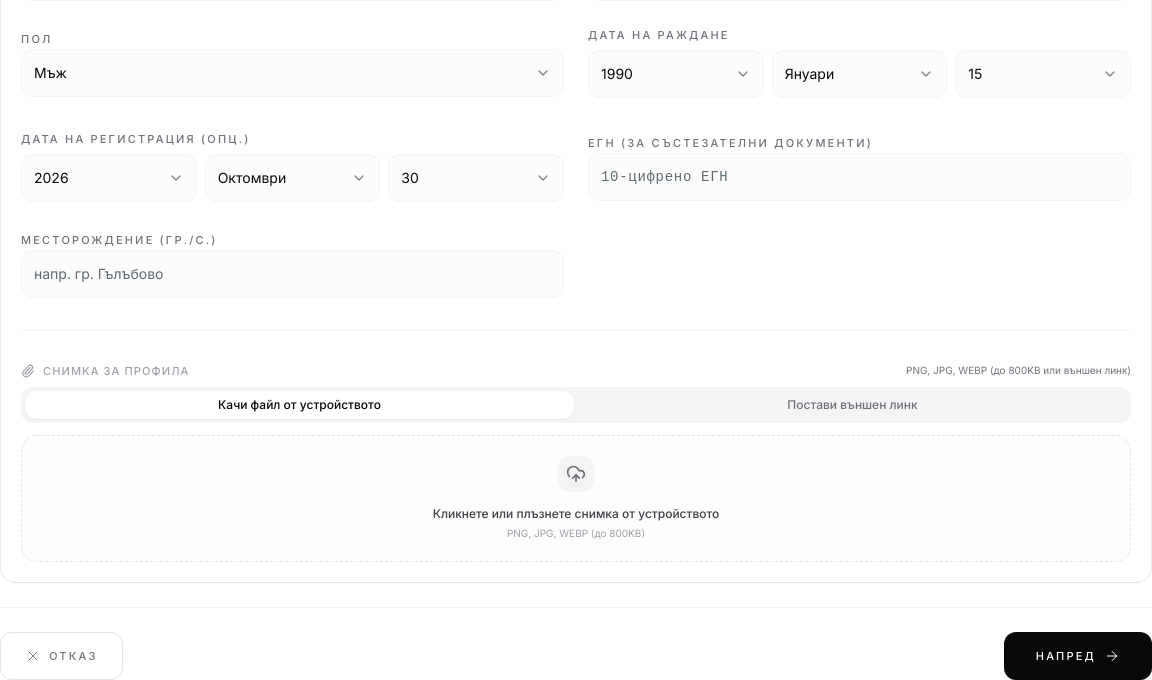
Scenario: MemberForm › should render correctly in edit mode with initialData
(page scrolled)
// Go to Step 2 (Contacts)
Click the button "Напред". click: (1078, 656)
box: [1004,632,1151,679]
(page scrolled)
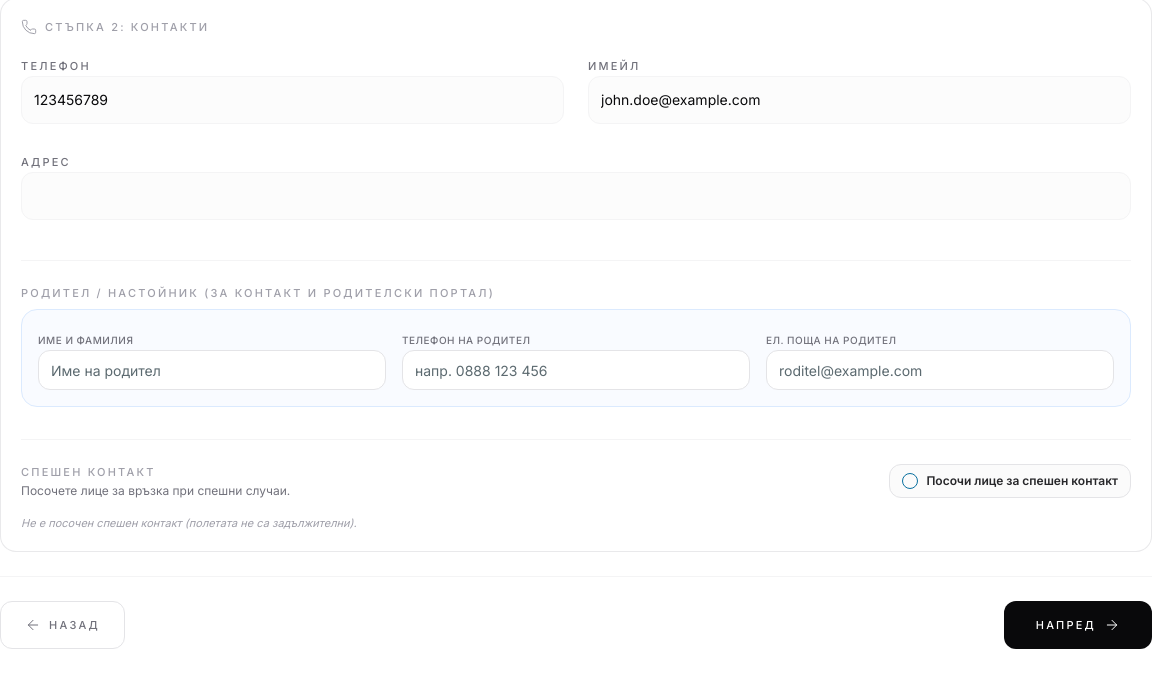
Result: the field labelled "Имейл" holds "john.doe@example.com" at [588,76,1131,124]
// Go to Step 3 (Details)
Click the button "Напред". click: (1078, 625)
box: [1004,601,1151,649]
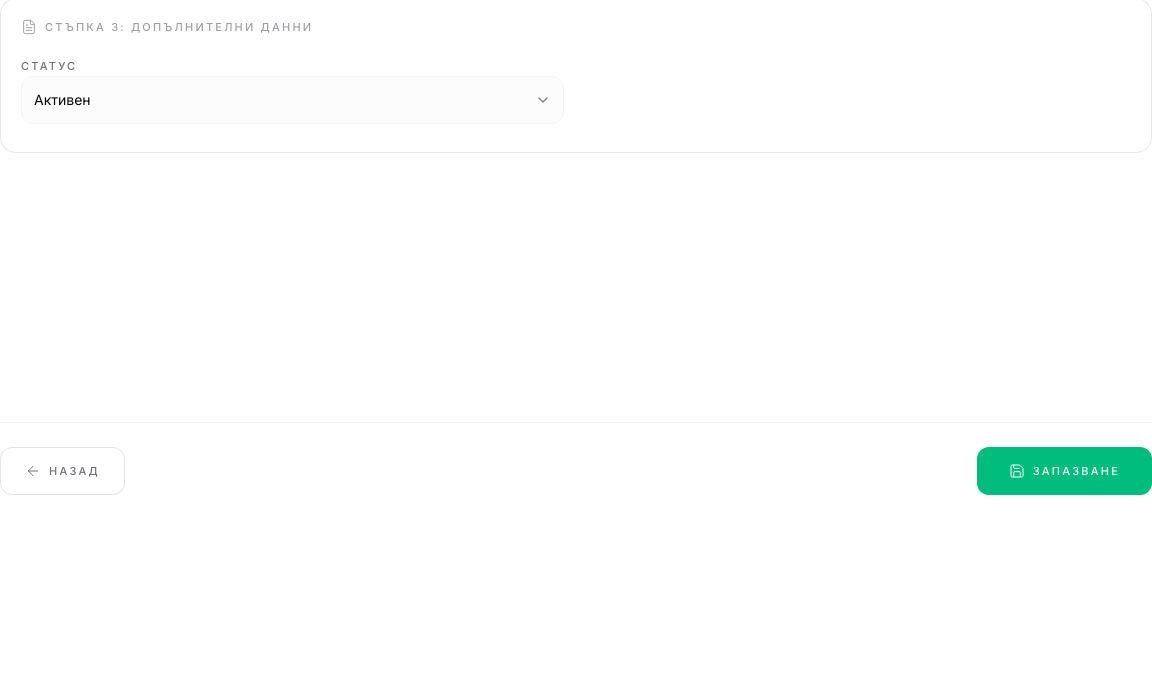
Result: the button "Запазване" is shown at [977,447,1151,495]
